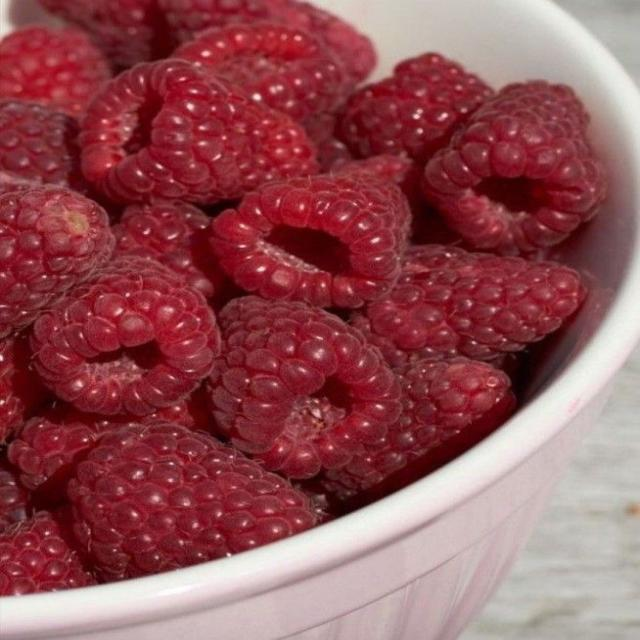raspberry: (69, 424, 318, 580), (210, 297, 399, 478), (80, 59, 316, 203), (423, 82, 605, 253), (32, 257, 220, 415), (323, 358, 514, 498), (212, 176, 410, 308), (356, 245, 585, 359), (8, 400, 203, 505), (159, 0, 376, 81), (173, 23, 352, 120), (0, 186, 114, 337), (340, 54, 491, 162), (113, 200, 228, 298), (0, 27, 110, 114), (40, 0, 173, 68), (273, 0, 376, 82), (0, 100, 86, 192), (0, 513, 94, 595), (8, 418, 99, 502), (157, 0, 290, 41), (330, 155, 422, 210), (0, 334, 46, 444), (305, 114, 352, 172), (331, 155, 415, 185), (0, 454, 30, 533)
